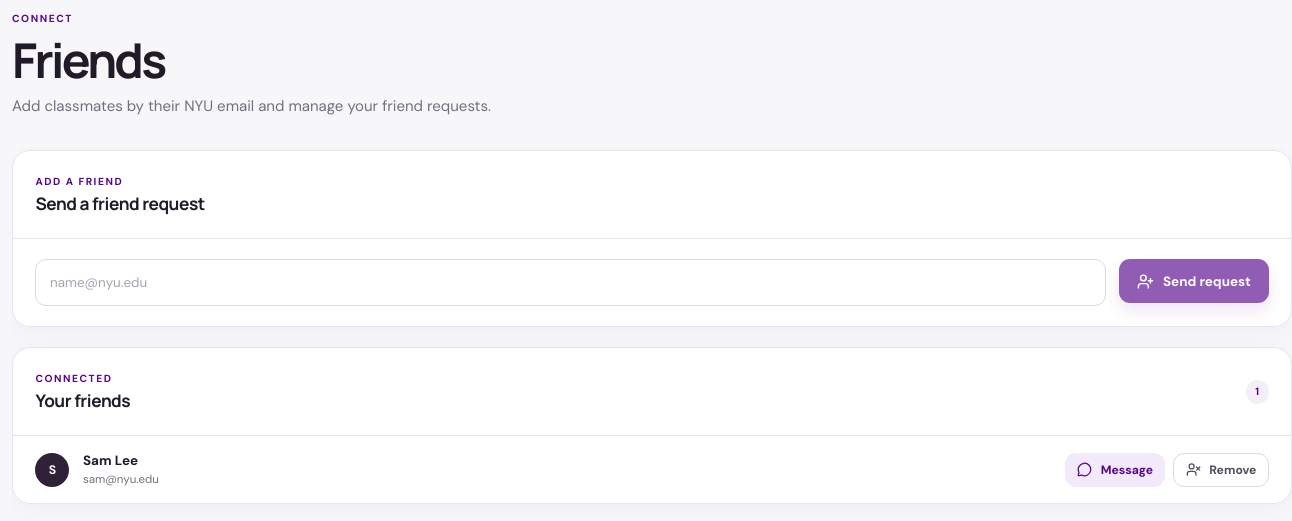
removing a friend › canceling the confirmation leaves the friendship unchanged
Expected: the text "Sam Lee" is shown, [83, 452, 138, 470]
Step 1. Click the button with aria-label "remove sam lee as a friend" → (1221, 470), box [1173, 453, 1269, 487]
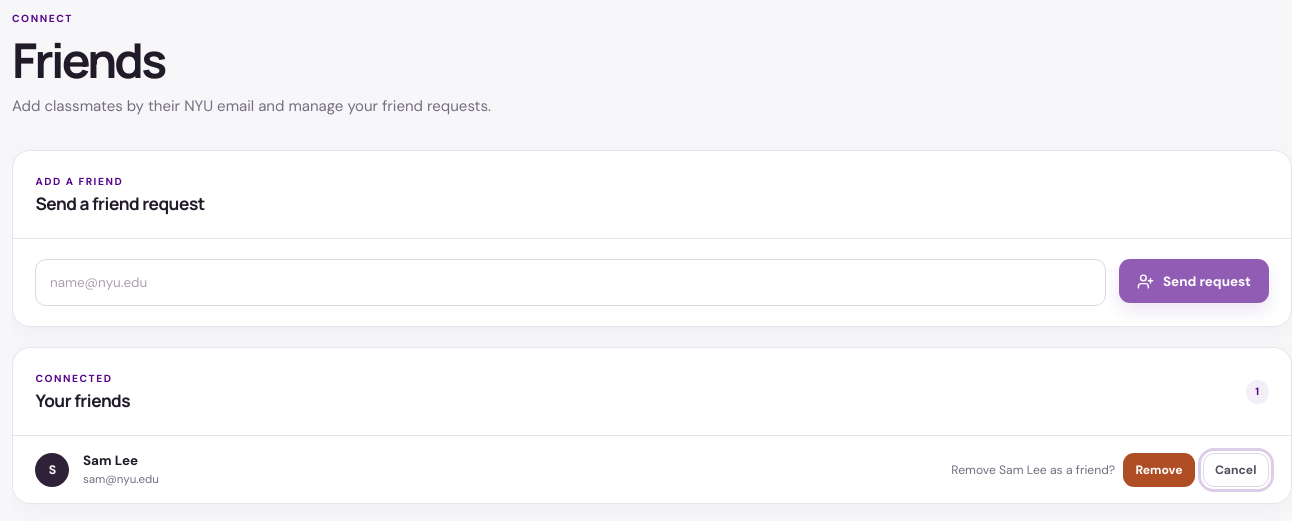
Step 2. Click the button "Cancel" → (1236, 470), box [1203, 453, 1269, 487]
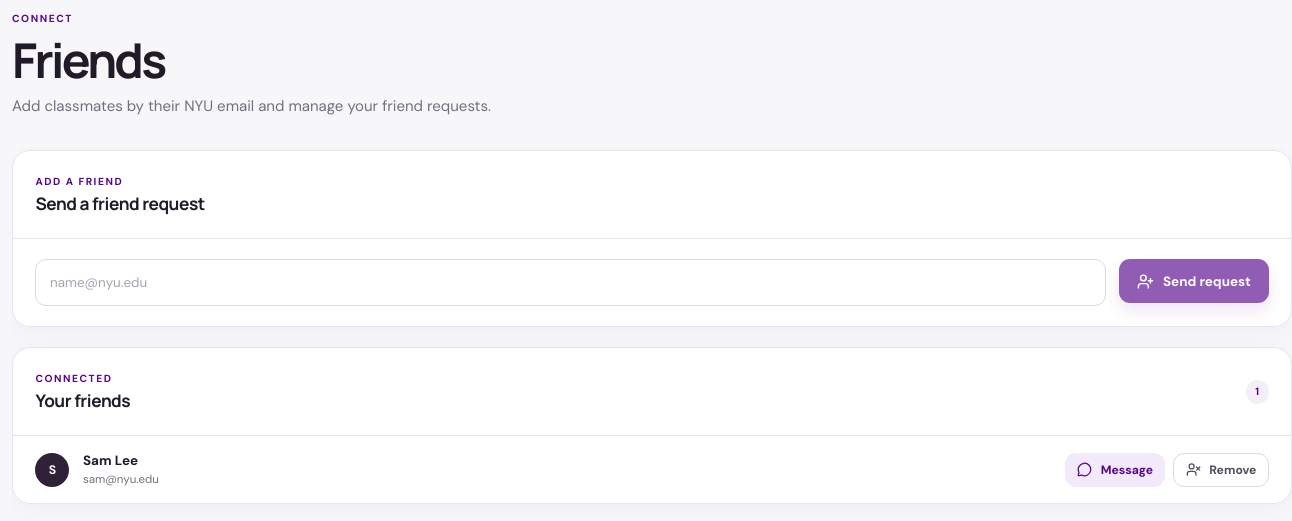
Expected: the text "Sam Lee" is shown, [83, 452, 138, 470]
Expected: the text "Remove Sam Lee as a friend?" is gone
